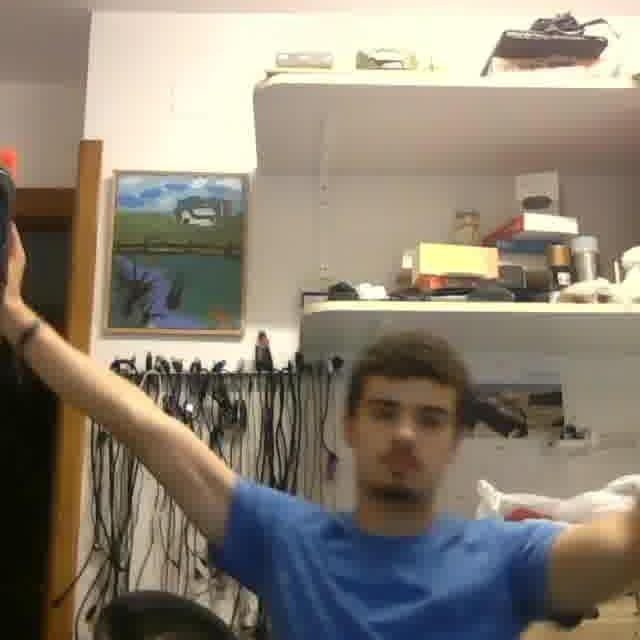NO-Hardhat: (365, 333, 470, 391)
NO-Mask: (363, 449, 439, 502)
NO-Safety Vest: (263, 527, 530, 640)
Person: (0, 224, 640, 640)
